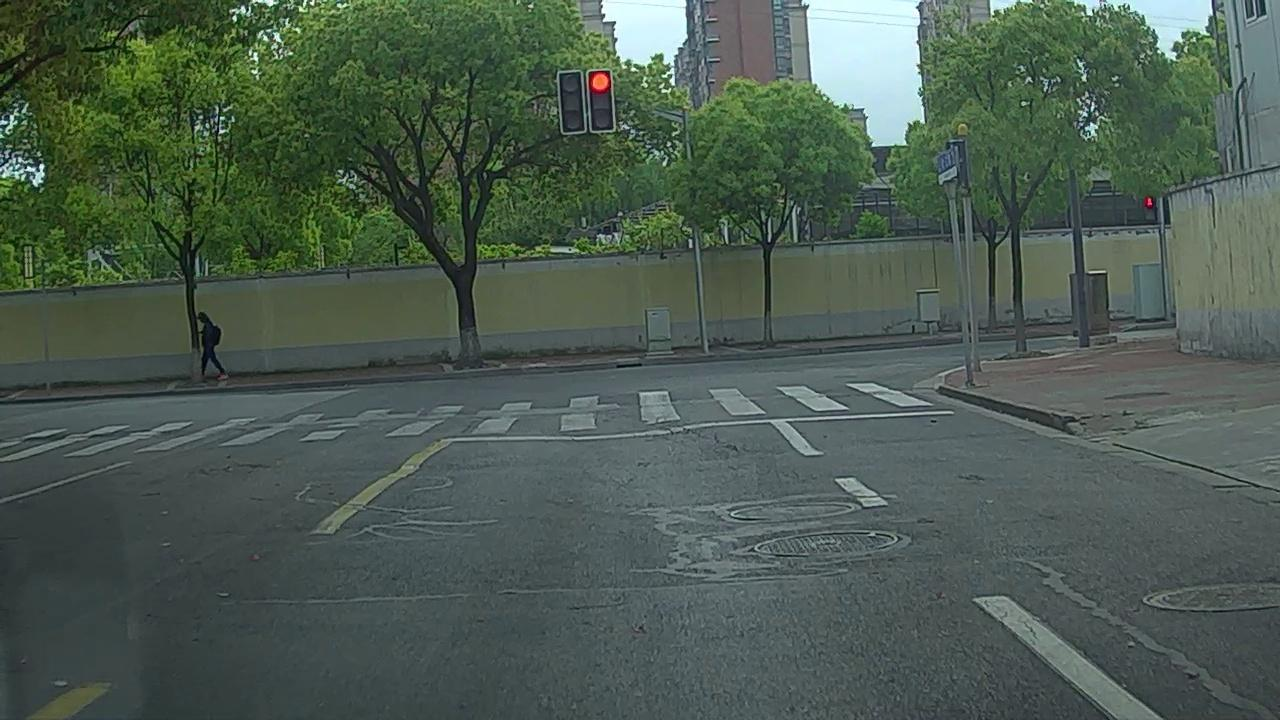traffic_light: (558, 71, 584, 133), (588, 70, 614, 132)
